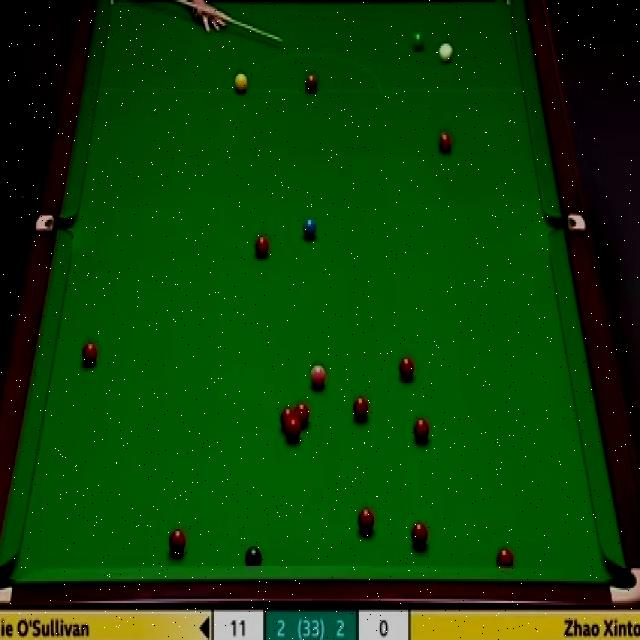black-ball: (244, 543, 264, 567)
blue-ball: (302, 215, 317, 241)
brown-ball: (303, 70, 318, 95)
green-ball: (410, 28, 427, 49)
pink-ball: (310, 360, 327, 389)
red-ball: (397, 354, 416, 385), (80, 339, 99, 369), (410, 522, 428, 550), (357, 506, 375, 534), (412, 414, 429, 442), (352, 394, 368, 422), (170, 527, 186, 555), (438, 130, 453, 158), (295, 402, 310, 430), (254, 234, 270, 259), (497, 546, 514, 567), (286, 420, 300, 442), (280, 406, 294, 428)
white-ball: (436, 39, 453, 62)
yellow-ball: (233, 71, 248, 92)
